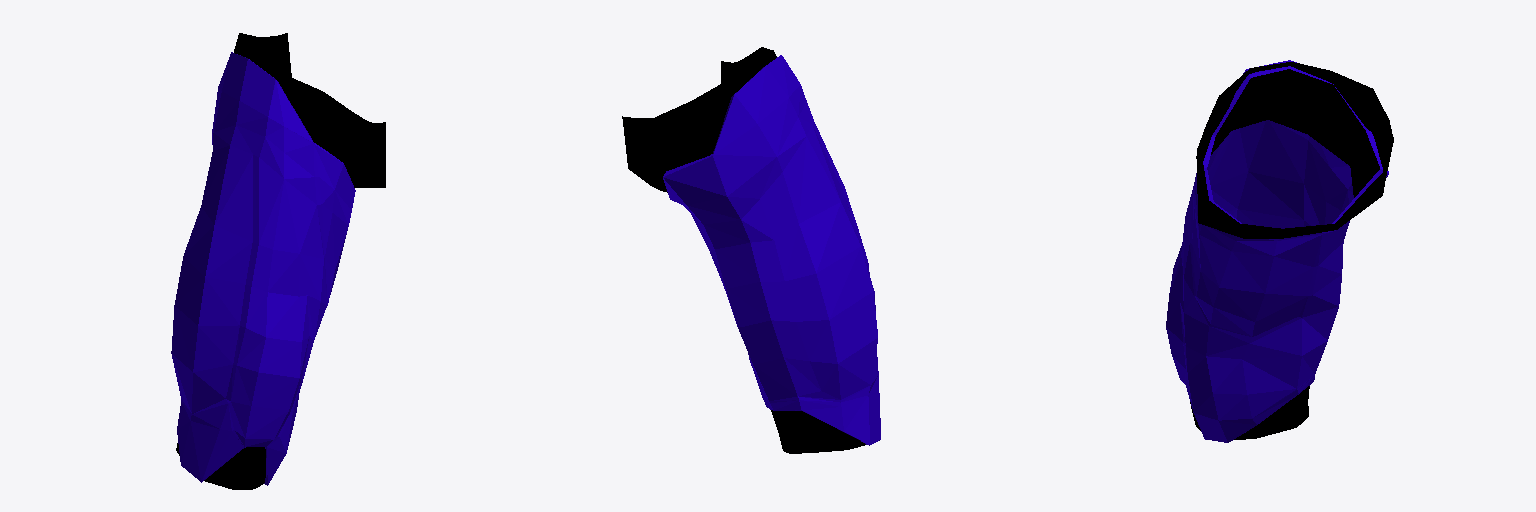
The model's file is rightfoot.obj.
The picture shows the model from 3 angles: view 1: azimuth 30°, elevation 25°; view 2: azimuth 150°, elevation 25°; view 3: azimuth 270°, elevation 25°; orthographic projection.
Parts seen in each view (by area): view 1: rightfoot3_EVA01_upload.000_rightfoot3_EVA01_upload.002; view 2: rightfoot3_EVA01_upload.000_rightfoot3_EVA01_upload.002; view 3: rightfoot3_EVA01_upload.000_rightfoot3_EVA01_upload.002.
Part boxes in pixels (left/top/right/bottom): rightfoot3_EVA01_upload.000_rightfoot3_EVA01_upload.002: left=171, top=33, right=385, bottom=489; rightfoot3_EVA01_upload.000_rightfoot3_EVA01_upload.002: left=622, top=47, right=880, bottom=453; rightfoot3_EVA01_upload.000_rightfoot3_EVA01_upload.002: left=1166, top=60, right=1393, bottom=442.
Size of the model in its own units: 3.87 by 8.19 by 4.32.